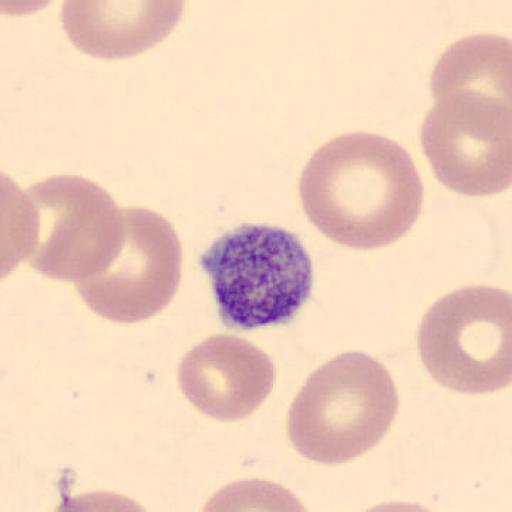Platelet: (204, 219, 318, 332)
RBC: (298, 128, 426, 252), (285, 348, 401, 468), (72, 203, 184, 326), (19, 171, 127, 283), (415, 282, 512, 396), (418, 88, 512, 198), (176, 332, 278, 424), (428, 30, 512, 132), (58, 0, 186, 62), (2, 171, 42, 282), (196, 475, 314, 512), (43, 488, 166, 512), (342, 496, 454, 512), (1, 0, 63, 18)
